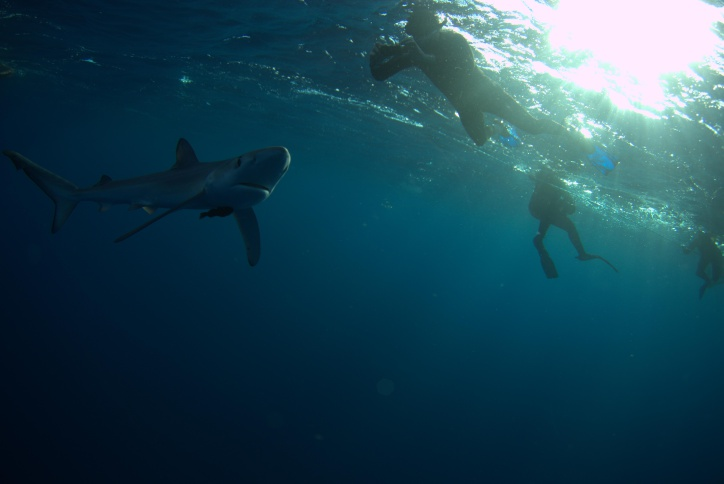Azul: (7, 124, 304, 287)
